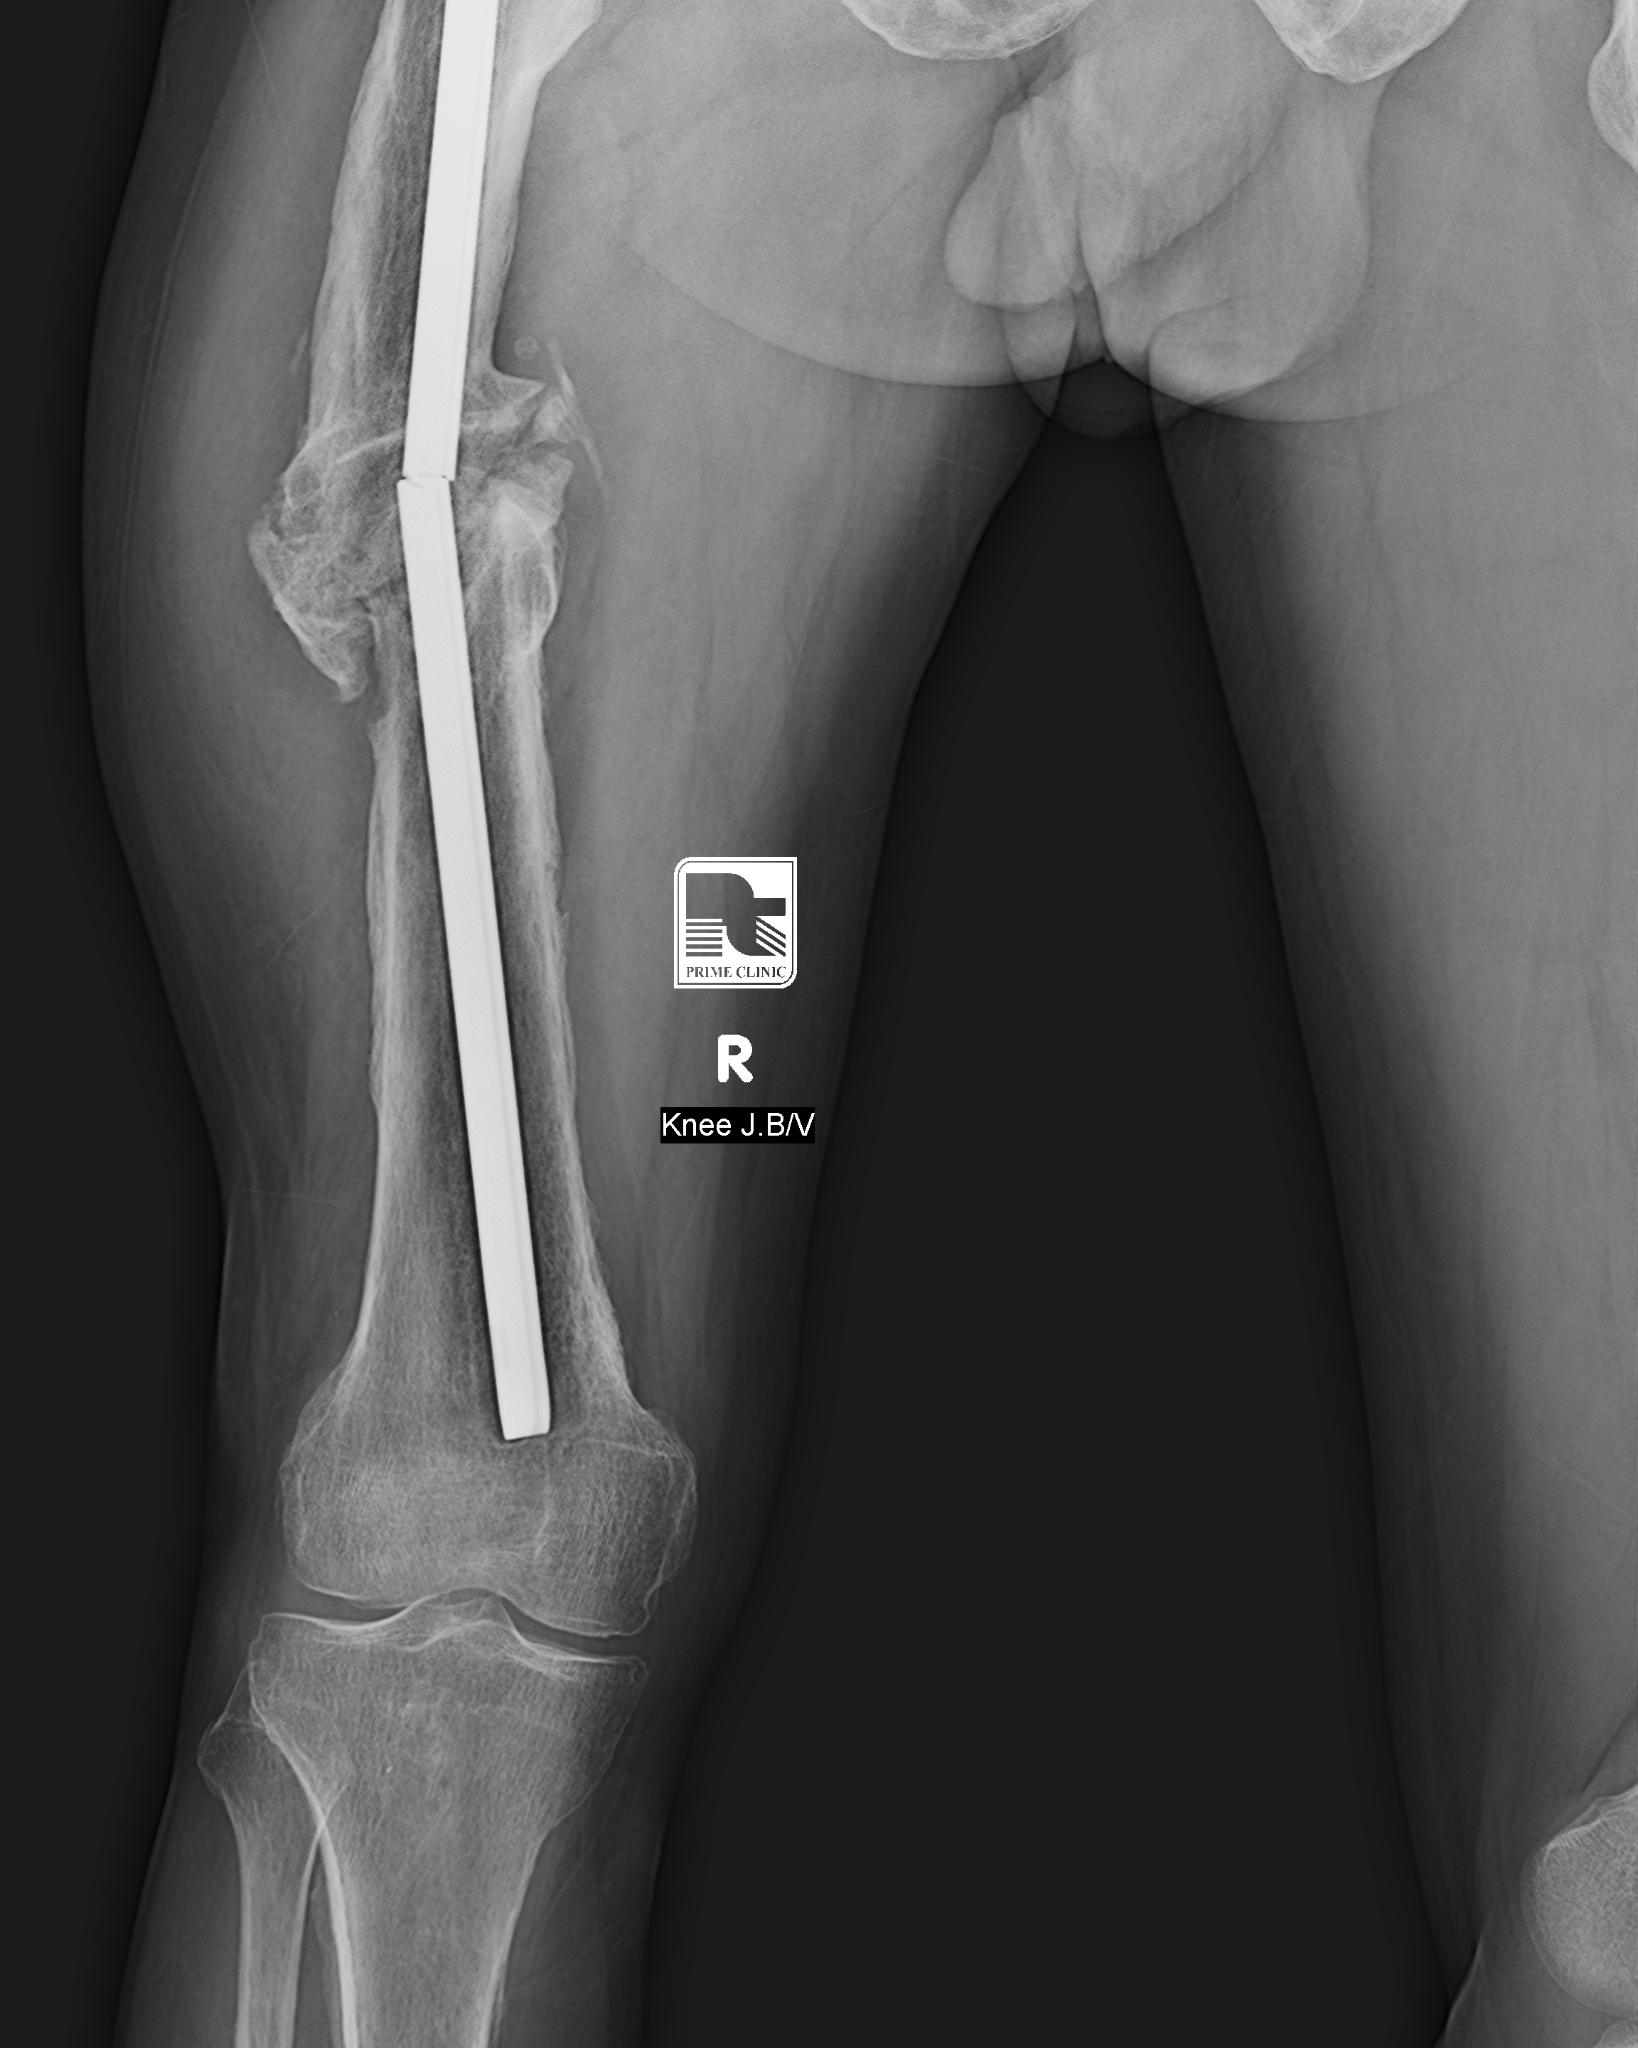fractured: (236, 313, 607, 759)
